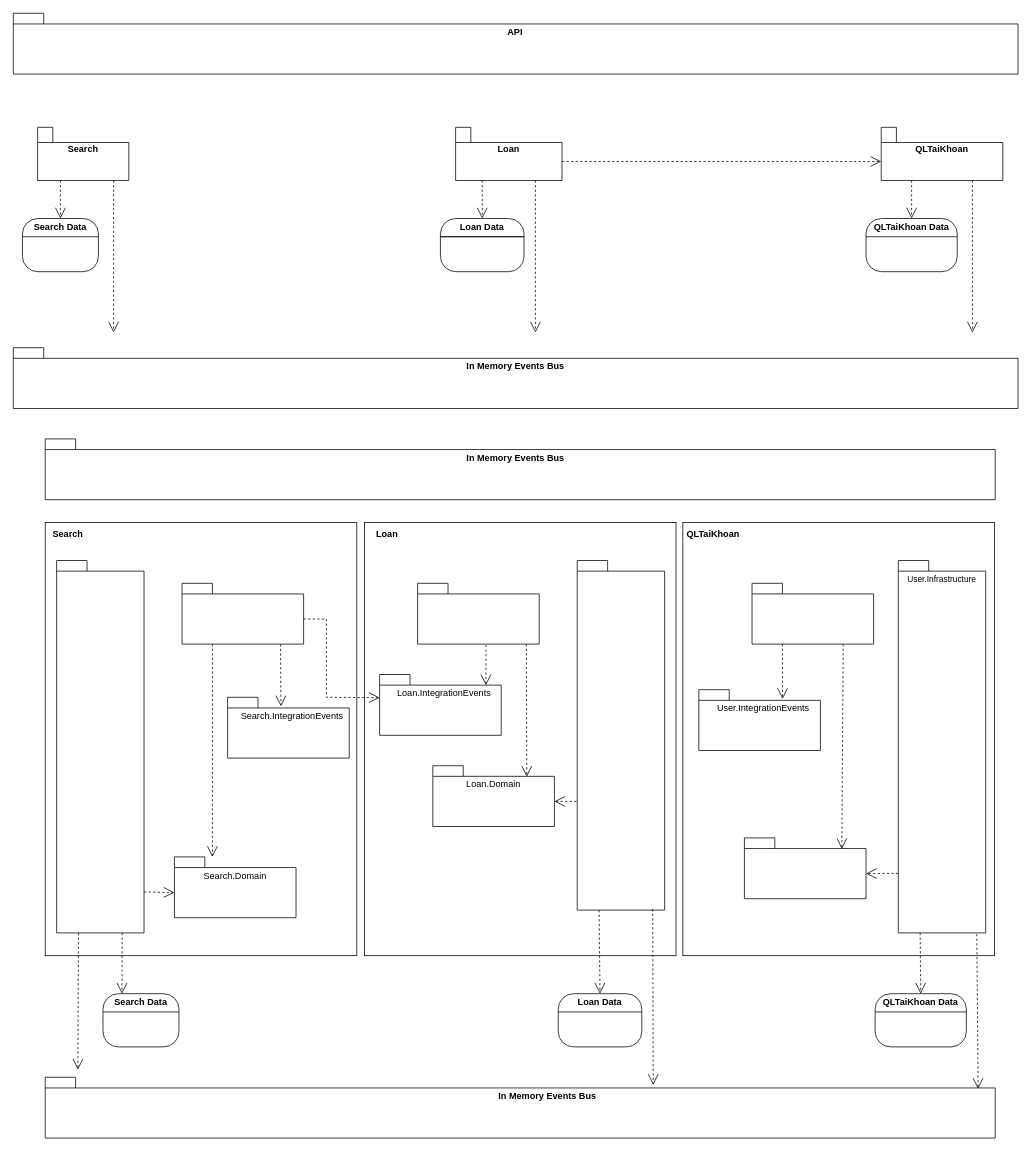
This 1031x1151 diagram has some shape labels left out. The centre of each missing label's shape, as x and y in pixels:
"Loan.Application" belongs at (x=478, y=613).
"Loan.Infrastructure" belongs at (x=620, y=735).
"Search.Application" belongs at (x=242, y=613).
"Search.Infrastructure" belongs at (x=100, y=746).
"User.Application" belongs at (x=812, y=613).
"User.Domain" belongs at (x=805, y=868).
